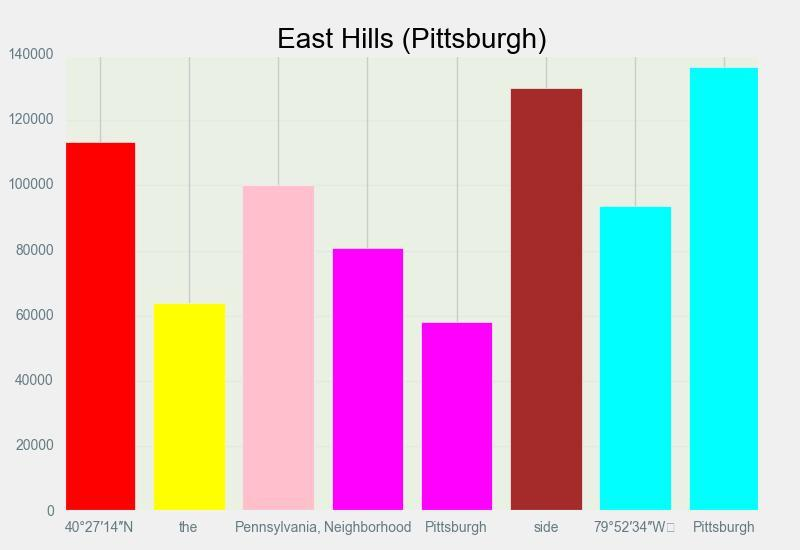axis: (0, 49, 54, 518)
rectangle: (689, 67, 760, 512), (511, 88, 582, 511), (64, 143, 135, 512), (242, 184, 314, 511), (599, 206, 670, 512), (332, 248, 403, 512), (154, 304, 224, 512), (421, 322, 492, 512)
